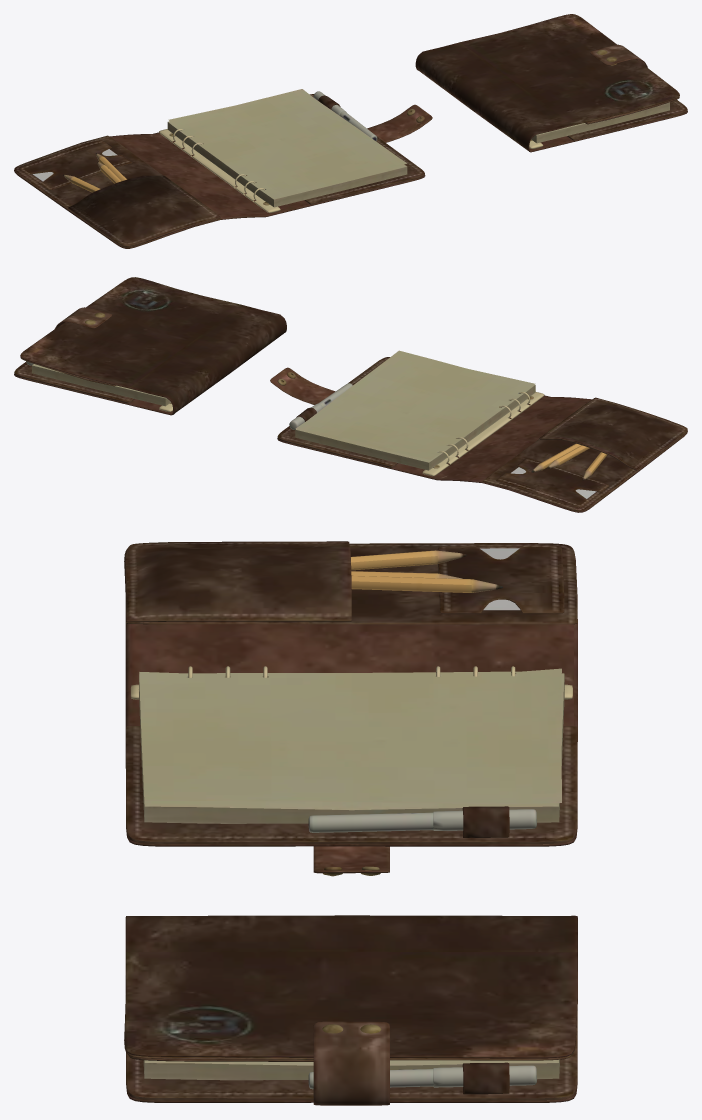
The model's file is binder_notebook_512.glb.
The picture shows the model from 3 angles, top to bottom: view 1: azimuth 30°, elevation 25°; view 2: azimuth 150°, elevation 25°; view 3: azimuth 270°, elevation 25°; orthographic projection. The views are drawn at different scales.
Parts seen in each view (by area): view 1: binder_notebook, binder_notebook_closed; view 2: binder_notebook, binder_notebook_closed; view 3: binder_notebook, binder_notebook_closed.
Boxes of the visible parts, <box> form: binder_notebook: <box>14,89,432,248</box>; binder_notebook_closed: <box>415,14,687,152</box>; binder_notebook: <box>270,350,687,512</box>; binder_notebook_closed: <box>14,277,286,415</box>; binder_notebook: <box>124,541,577,876</box>; binder_notebook_closed: <box>124,915,577,1105</box>.
Bounding box in the file's own units: 0.584 × 0.0253 × 0.2.
1 material, 1 textured.
